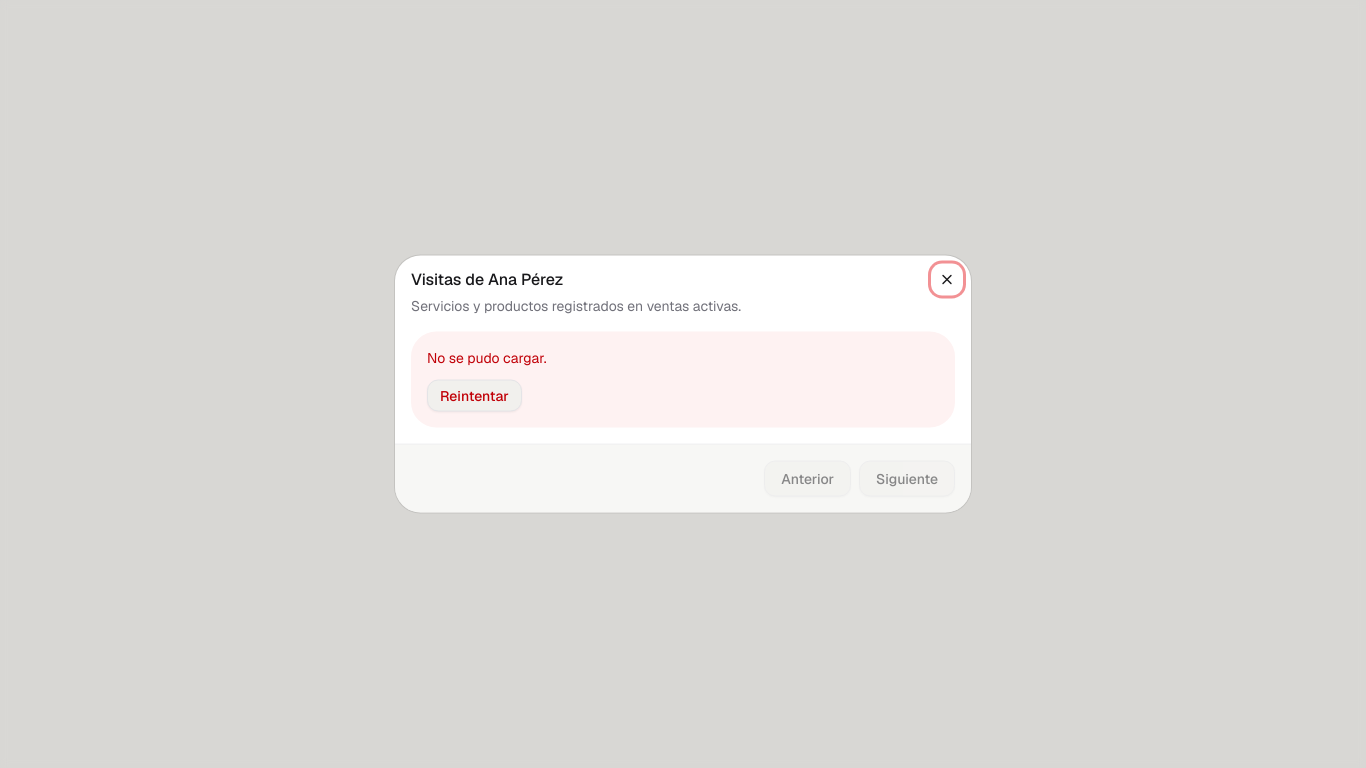
Test: allows retry after an API error
Click the button "Reintentar".
click(474, 396)  # box [427,380,522,412]
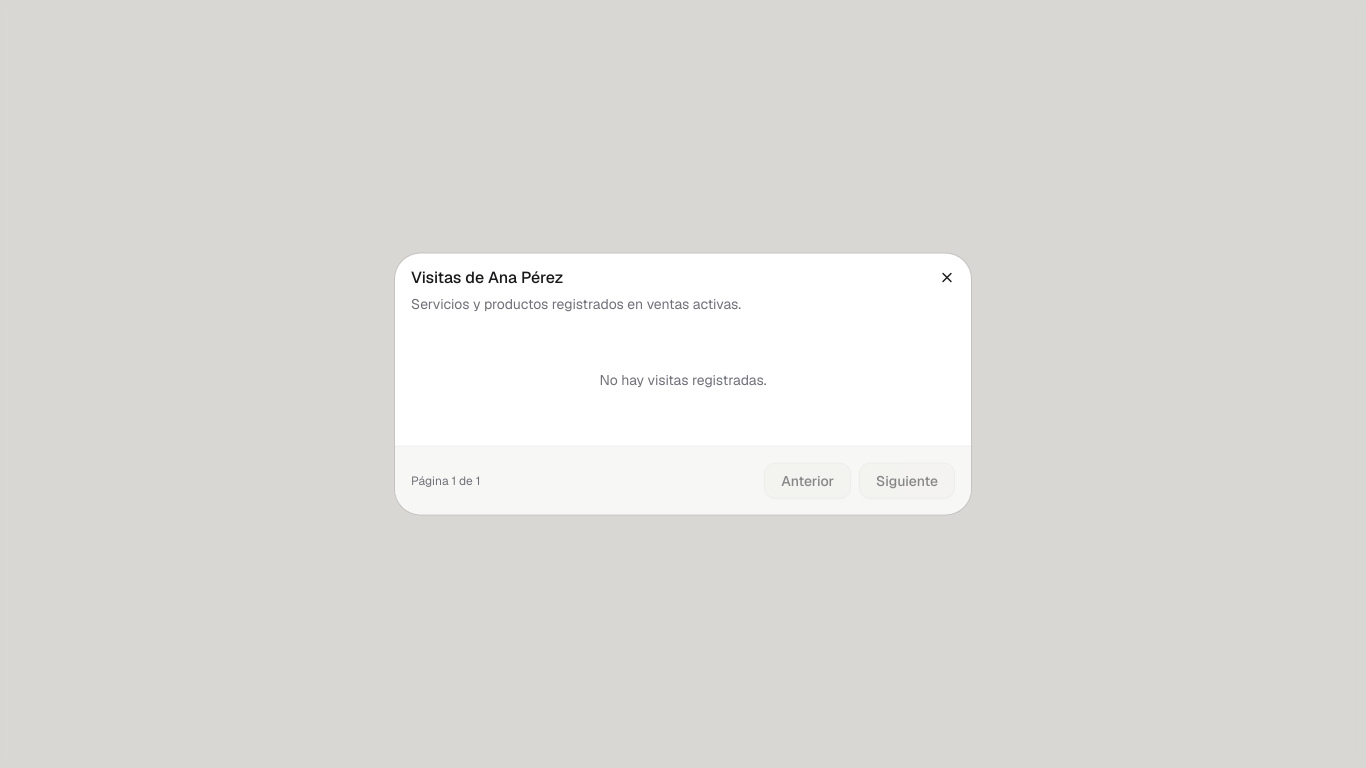
Check: the text "No hay visitas registradas." is shown, box [599,370,766,388]
